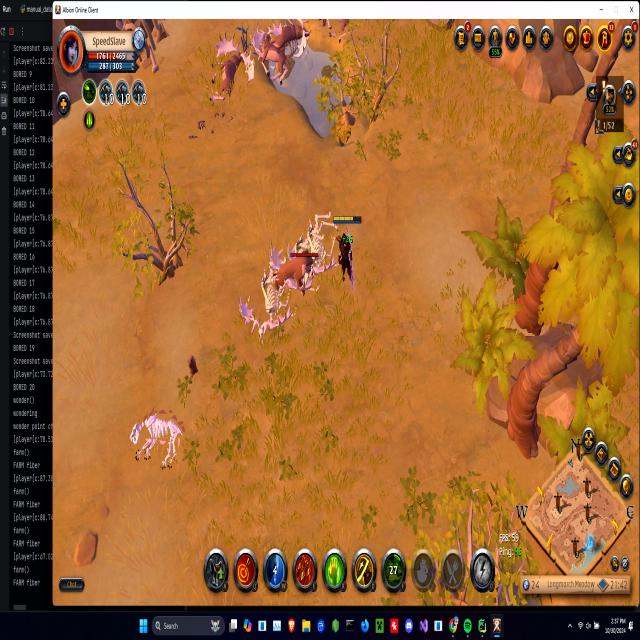mob: (209, 25, 255, 108), (253, 25, 290, 84), (271, 19, 310, 58)
ore: (262, 234, 322, 305)
red: (332, 213, 362, 290)
